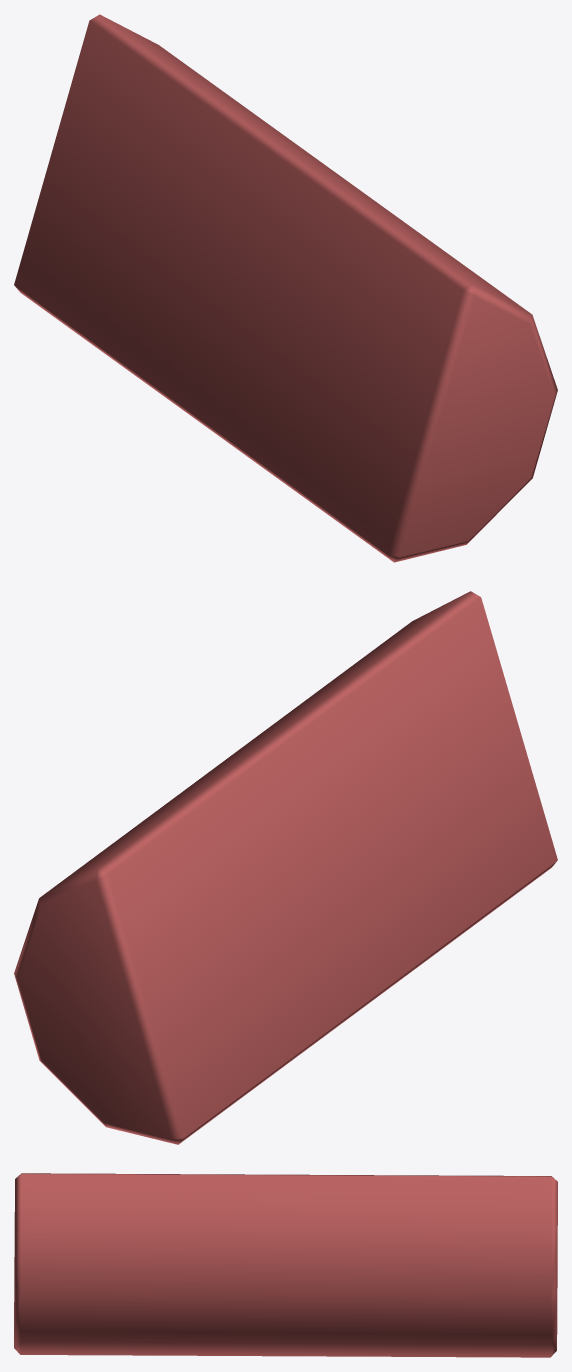
The model's file is SM_Firewood_02_Unity.fbx.
The picture shows the model from 3 angles, top to bottom: view 1: azimuth 30°, elevation 25°; view 2: azimuth 150°, elevation 25°; view 3: azimuth 270°, elevation 25°; orthographic projection. The views are drawn at different scales.
Parts seen in each view (by area): view 1: SM_Firewood_02; view 2: SM_Firewood_02; view 3: SM_Firewood_02.
Part boxes in pixels (box(x1,y1,x2,y2)): SM_Firewood_02: box(14, 14, 557, 562); SM_Firewood_02: box(14, 591, 557, 1144); SM_Firewood_02: box(14, 1173, 557, 1357).
Size of the model in its own units: 0.1 by 0.1467 by 0.3893.
